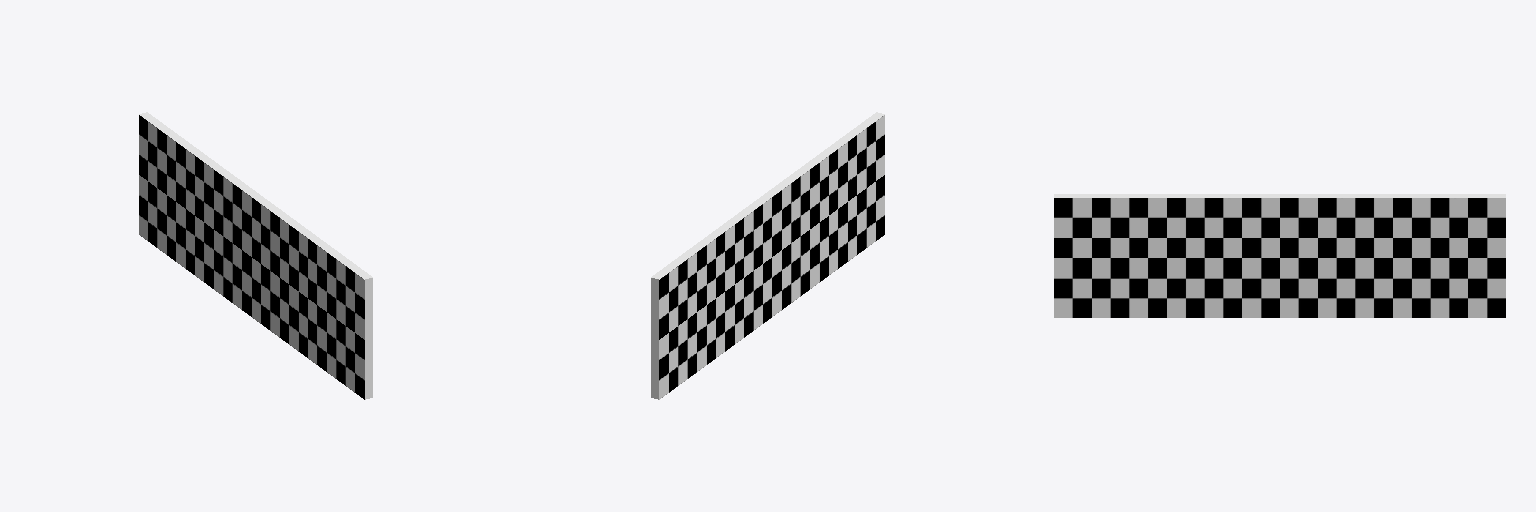
3 views of the same model, side by side, from view 1: azimuth 30°, elevation 25°; view 2: azimuth 150°, elevation 25°; view 3: azimuth 270°, elevation 25° (orthographic).
Visible parts, largest first — view 1: Cube; view 2: Cube; view 3: Cube.
Part boxes in pixels (bbox=[...]): Cube: bbox=[139, 112, 372, 399]; Cube: bbox=[651, 112, 884, 399]; Cube: bbox=[1054, 194, 1505, 317].
Size of the model in its own units: 0.2164 by 2.79 by 9.51.
1 materials, 1 textured.